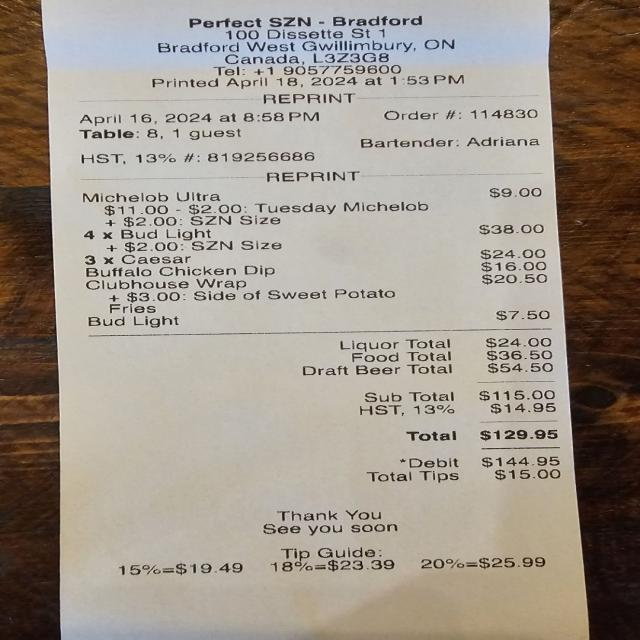item: (73, 183, 549, 210), (77, 308, 558, 330), (80, 272, 554, 293), (80, 259, 554, 280), (115, 247, 551, 268), (118, 222, 552, 243)
store_name: (176, 12, 432, 33)
total_amount: (395, 423, 565, 448)
transaction_date: (72, 109, 218, 129)
